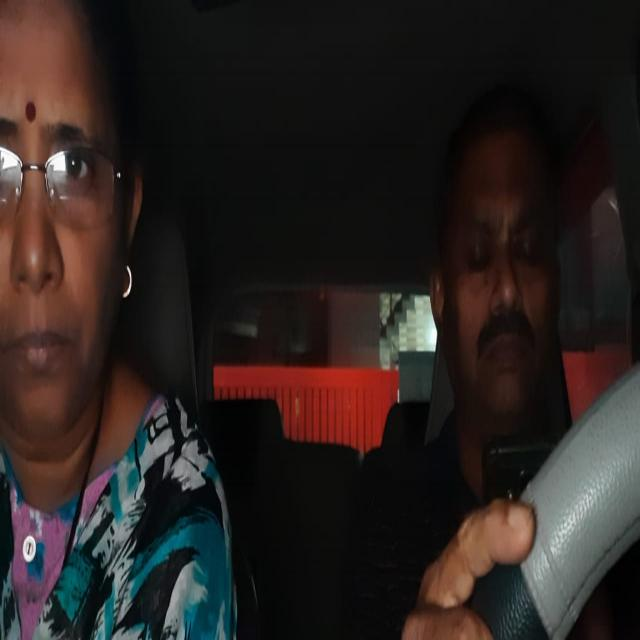drowsy: (429, 86, 582, 422)
mobile: (479, 431, 565, 506)
person: (0, 0, 147, 495)
